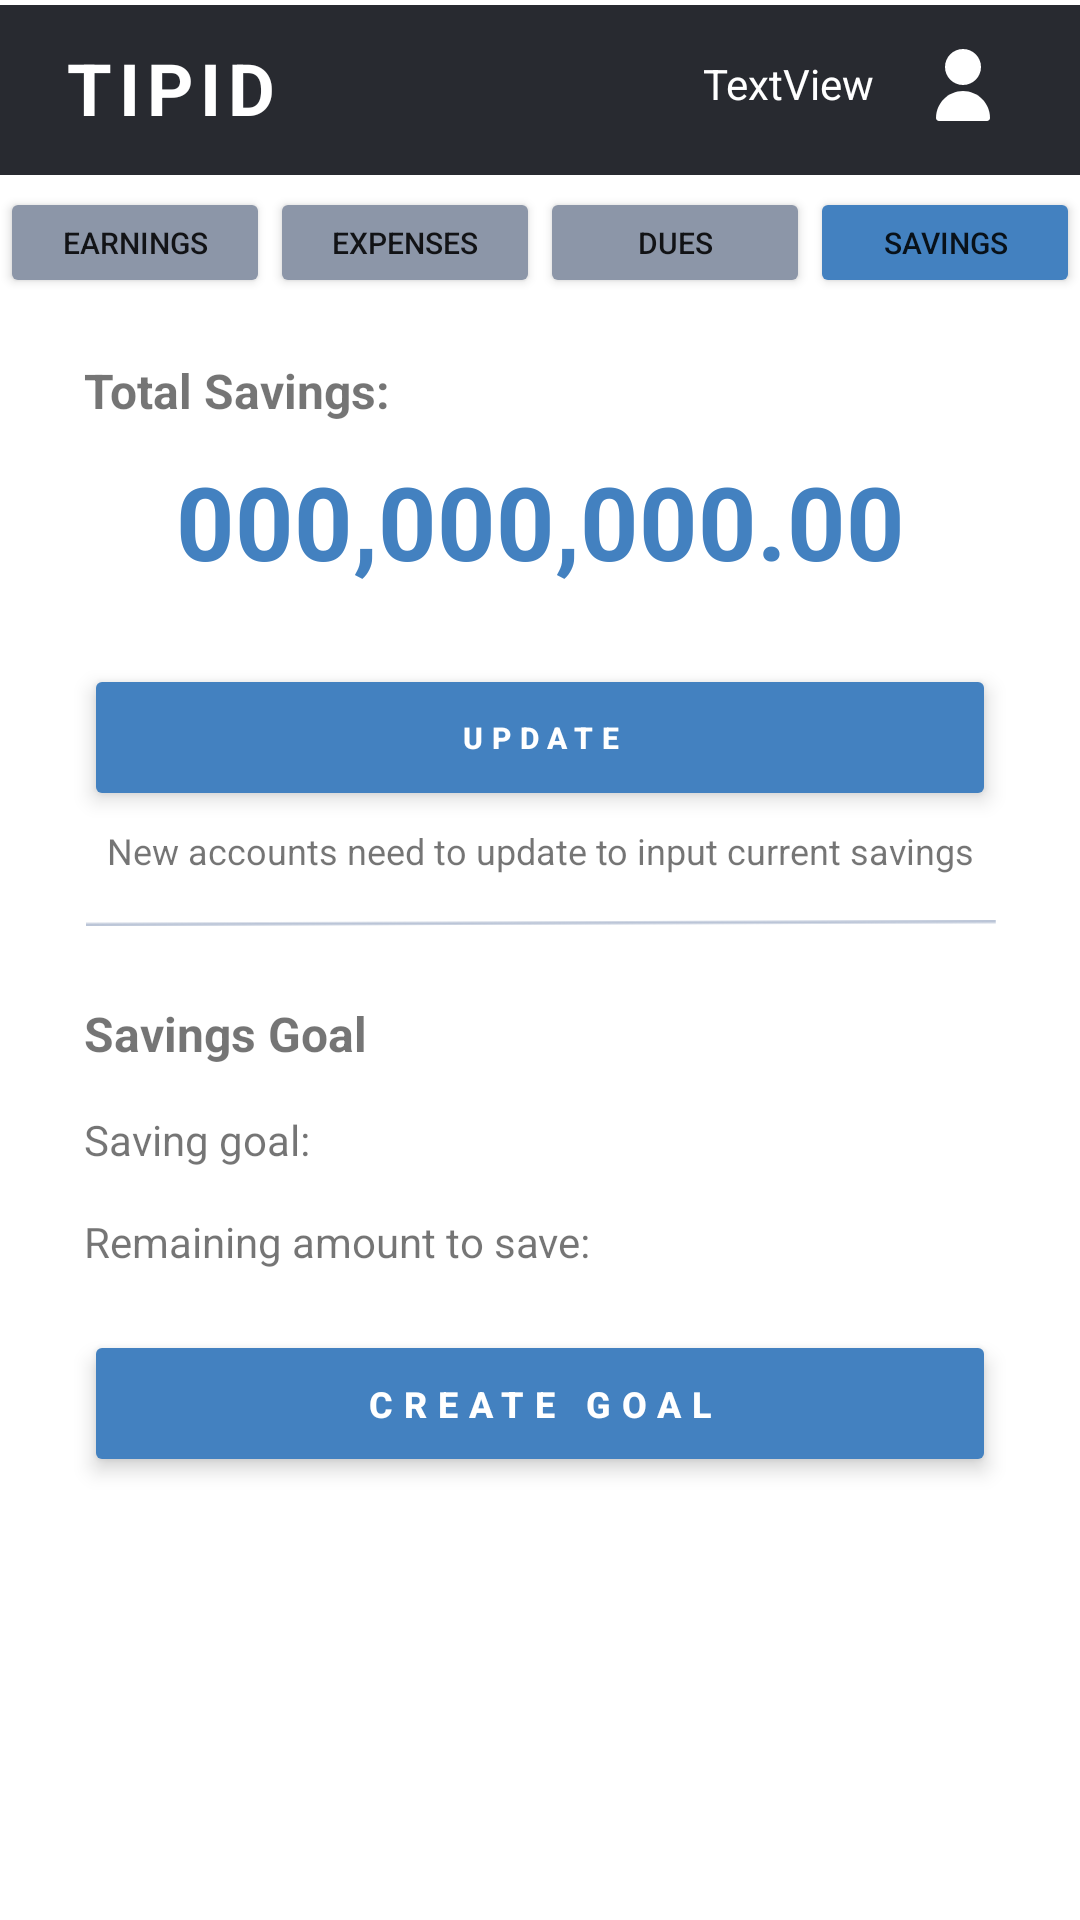

Locate icon controls on the screen. Image size 1080 x 1920, boxes as (x1,y1,x2,y2).
account: (936,49,990,121)
